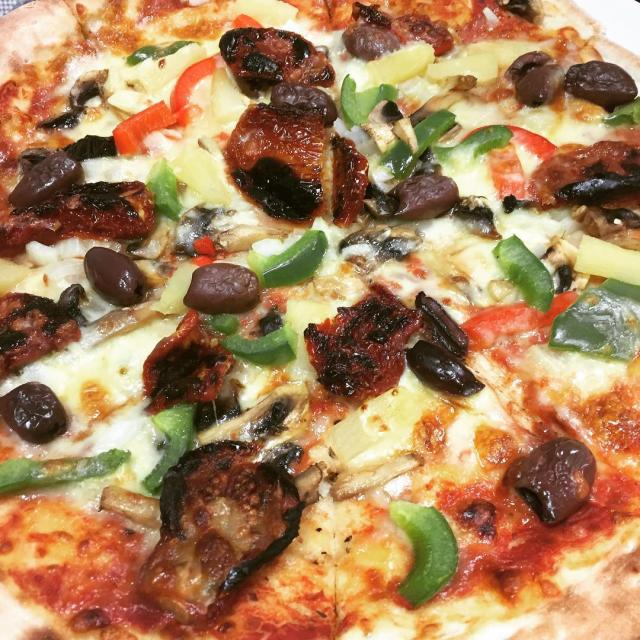black_olives: (508, 432, 601, 530), (78, 238, 154, 310), (404, 336, 484, 404), (0, 371, 71, 447), (183, 254, 261, 317), (408, 288, 470, 357), (563, 52, 636, 110), (258, 75, 338, 125), (389, 170, 460, 226), (504, 46, 564, 111), (10, 158, 86, 207), (339, 16, 405, 63)
mushrooms: (190, 380, 310, 445), (127, 191, 238, 259), (34, 62, 116, 133), (332, 446, 422, 503), (340, 226, 427, 278), (14, 135, 120, 170), (366, 94, 418, 155), (451, 189, 497, 237), (544, 235, 579, 292), (290, 459, 332, 506)
pizza: (0, 0, 640, 640)
tomatoes: (138, 430, 302, 628), (222, 102, 373, 232), (301, 282, 422, 402), (0, 185, 167, 250), (210, 22, 340, 97), (139, 306, 230, 410), (0, 284, 90, 382)
